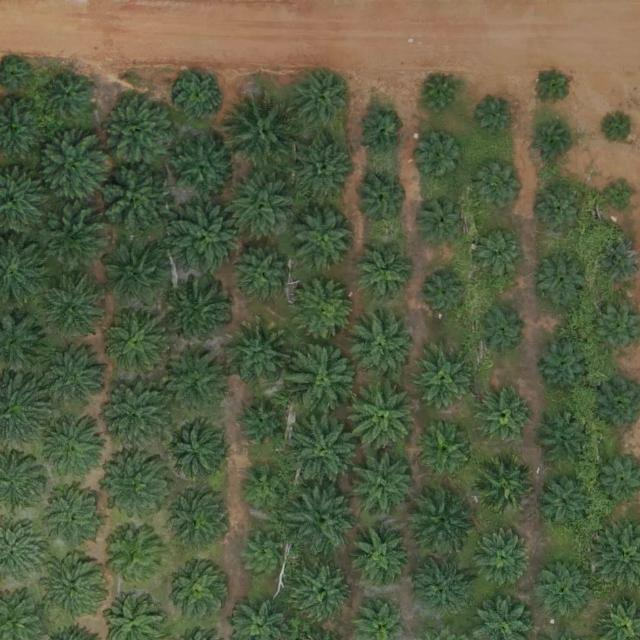Kelapa_Sawit: (100, 90, 178, 168), (92, 159, 170, 237), (95, 376, 173, 454), (167, 199, 245, 277), (224, 91, 302, 169), (221, 167, 299, 245), (285, 340, 363, 418), (285, 411, 363, 489), (343, 377, 421, 455), (406, 486, 476, 557), (36, 132, 106, 202), (36, 202, 106, 272), (40, 344, 110, 414), (287, 484, 357, 554), (97, 454, 167, 524), (32, 412, 102, 482), (105, 244, 167, 307), (105, 308, 167, 371), (172, 279, 234, 342), (165, 345, 227, 408), (229, 322, 291, 385), (349, 523, 411, 586), (290, 559, 352, 622), (162, 418, 224, 481), (164, 488, 226, 551), (169, 558, 231, 621), (103, 524, 165, 587), (42, 487, 104, 550), (40, 556, 102, 619), (171, 135, 233, 197), (290, 67, 352, 129), (292, 140, 354, 202), (292, 207, 354, 269), (294, 280, 356, 342), (350, 315, 412, 377), (409, 347, 471, 409), (530, 559, 592, 621), (474, 457, 536, 519), (470, 529, 532, 591), (352, 452, 414, 514), (0, 370, 48, 441), (591, 522, 639, 591), (0, 163, 42, 236), (534, 251, 589, 306), (44, 279, 99, 334), (356, 246, 411, 301), (537, 339, 592, 394), (418, 424, 473, 479), (414, 560, 469, 615), (353, 171, 407, 226), (235, 249, 289, 304), (477, 389, 531, 444), (537, 413, 591, 468), (538, 474, 592, 529), (103, 593, 164, 640), (473, 593, 534, 640), (0, 450, 46, 512), (0, 237, 42, 303), (0, 92, 42, 157), (591, 374, 639, 430), (0, 309, 44, 367), (0, 519, 40, 579), (228, 595, 282, 639), (597, 450, 640, 502), (474, 228, 520, 275), (418, 195, 464, 242), (421, 270, 467, 317), (477, 305, 523, 352), (176, 71, 222, 118), (356, 108, 402, 155), (352, 599, 404, 640), (417, 134, 463, 180), (475, 161, 521, 207), (536, 188, 582, 234), (241, 530, 287, 576), (241, 465, 287, 511), (45, 72, 91, 118), (236, 401, 282, 447), (0, 588, 40, 639), (593, 303, 639, 345), (597, 237, 639, 281), (597, 599, 639, 639), (533, 66, 572, 105), (533, 121, 572, 160), (420, 76, 458, 115), (476, 96, 514, 135), (0, 52, 32, 90), (605, 113, 636, 144), (604, 179, 635, 210)
